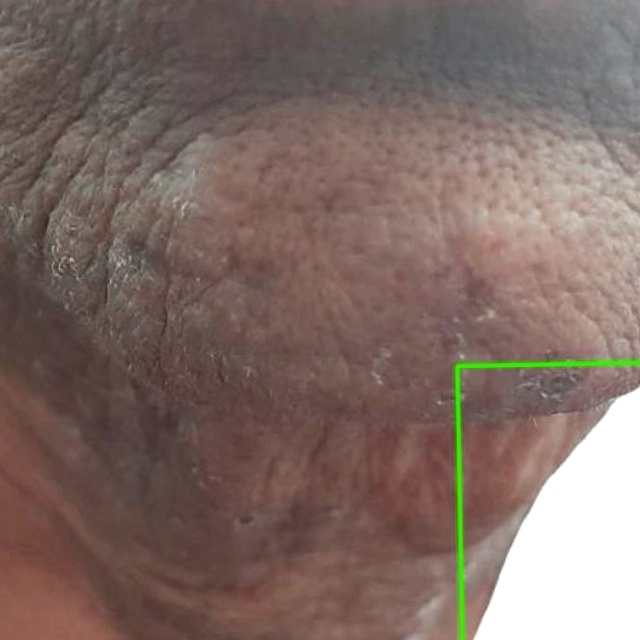Eczema: (456, 364, 639, 639)
